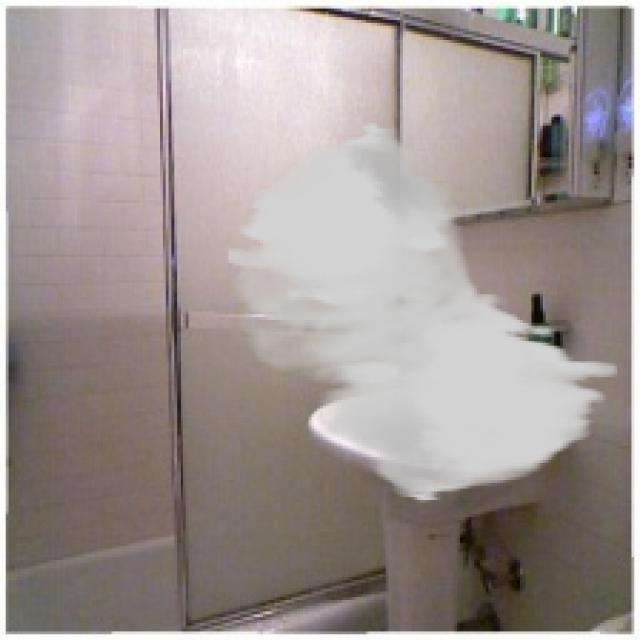Smoke: (225, 120, 618, 503)
